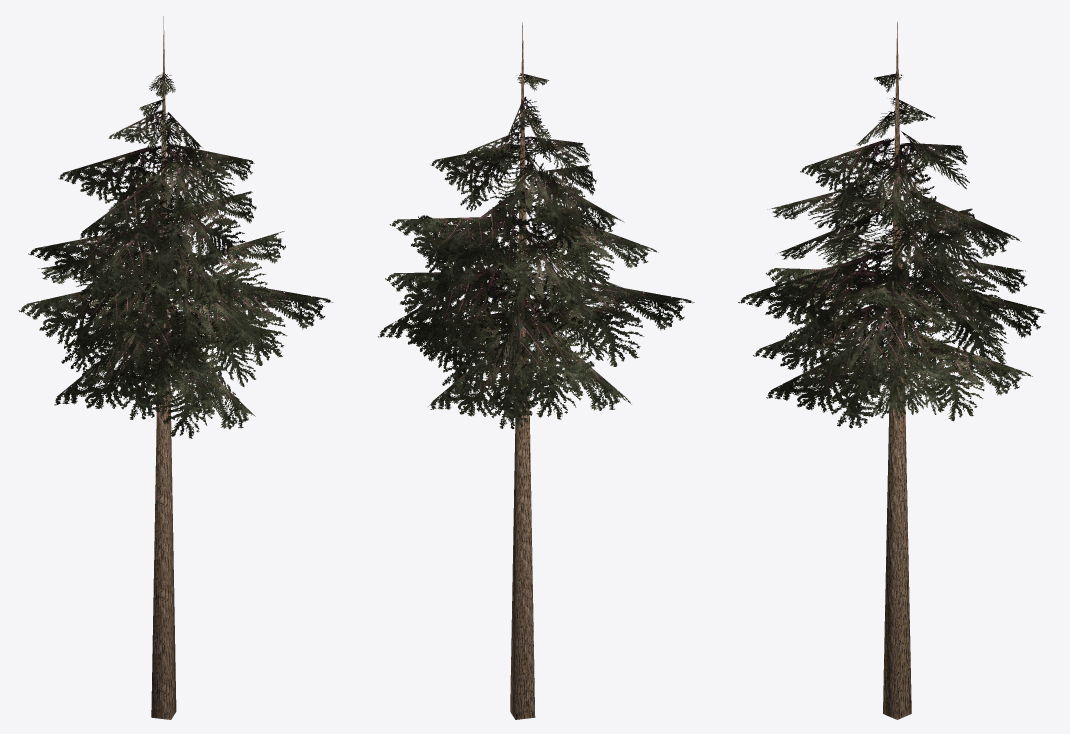
The model's file is ever_pinetree_medium_l2.fbx.
3 views of the same model, side by side, from view 1: azimuth 30°, elevation 25°; view 2: azimuth 150°, elevation 25°; view 3: azimuth 270°, elevation 25° (orthographic).
Parts seen in each view (by area): view 1: mesh_node; view 2: mesh_node; view 3: mesh_node.
Part boxes in pixels (x1=…): mesh_node: x1=18, y1=16, x2=333, y2=719; mesh_node: x1=378, y1=22, x2=694, y2=719; mesh_node: x1=738, y1=21, x2=1046, y2=719.
Size of the model in its own units: 6.89 by 15.77 by 6.6.
